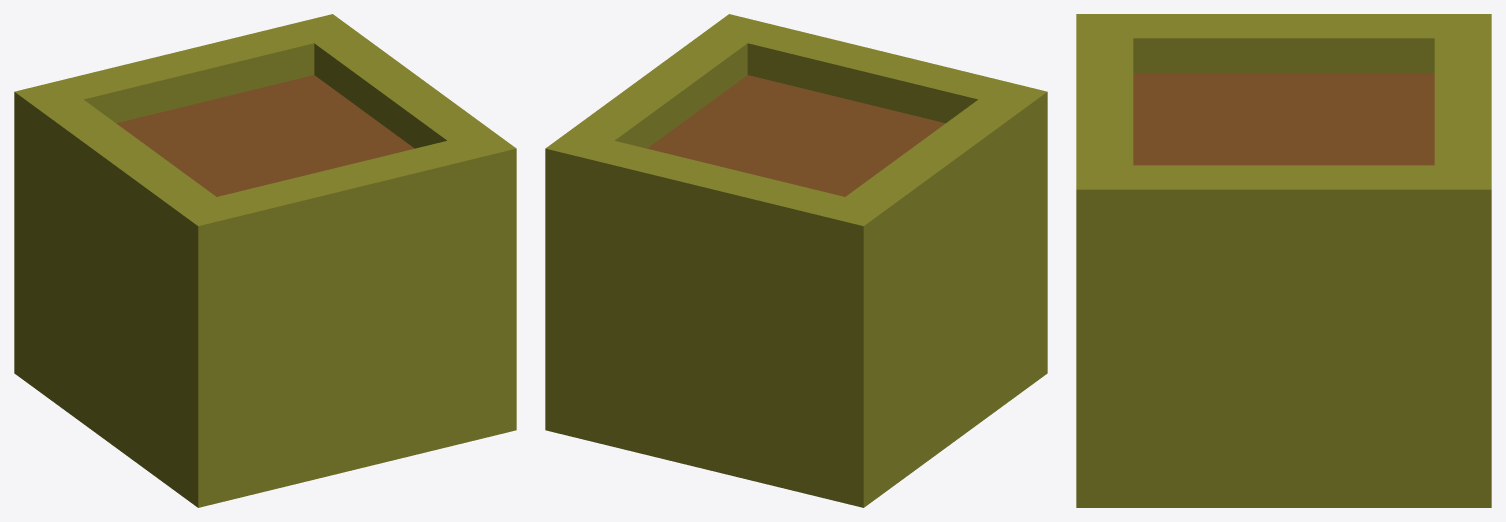
The model's file is vase_1b.fbx.
The picture shows the model from 3 angles, left to right: view 1: azimuth 30°, elevation 25°; view 2: azimuth 150°, elevation 25°; view 3: azimuth 270°, elevation 25°; orthographic projection. The views are drawn at different scales.
Parts seen in each view (by area): view 1: vase_1b; view 2: vase_1b; view 3: vase_1b.
Boxes of the visible parts, box(x1,y1,x2,y2) form: vase_1b: box(14, 14, 516, 507); vase_1b: box(545, 14, 1047, 507); vase_1b: box(1076, 14, 1491, 507).
Size of the model in its own units: 49.6 by 41.94 by 49.6.
